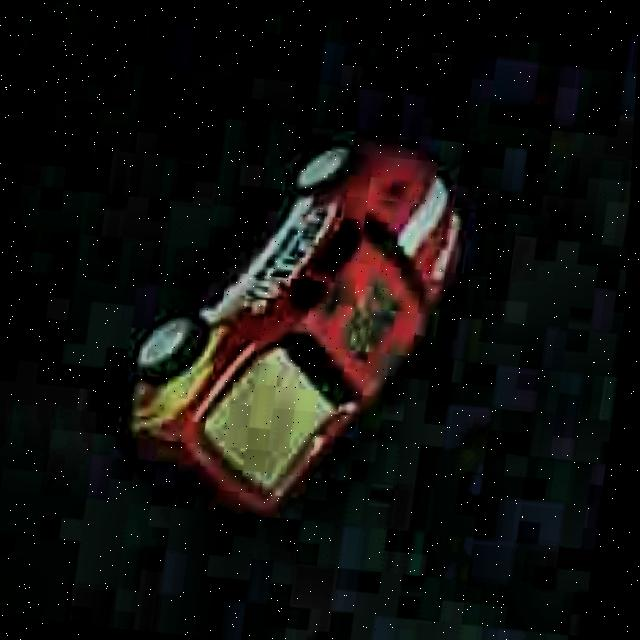car: (98, 116, 484, 535)
